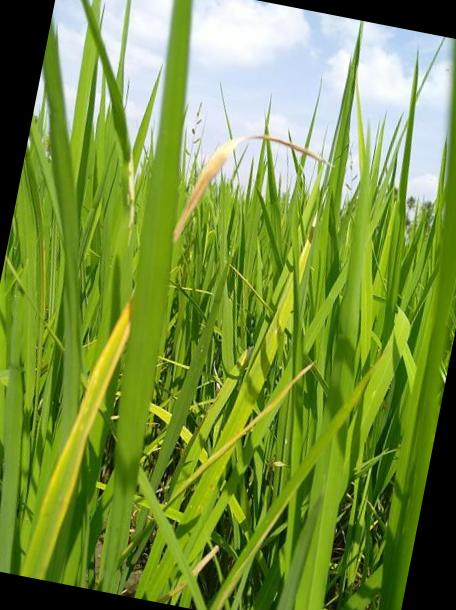Leaf Blight: (20, 299, 132, 580), (172, 131, 327, 244)
